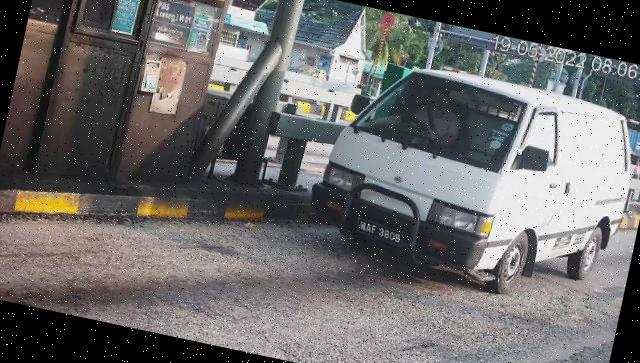License_Plate: (352, 217, 408, 250)
van: (299, 46, 640, 316)
